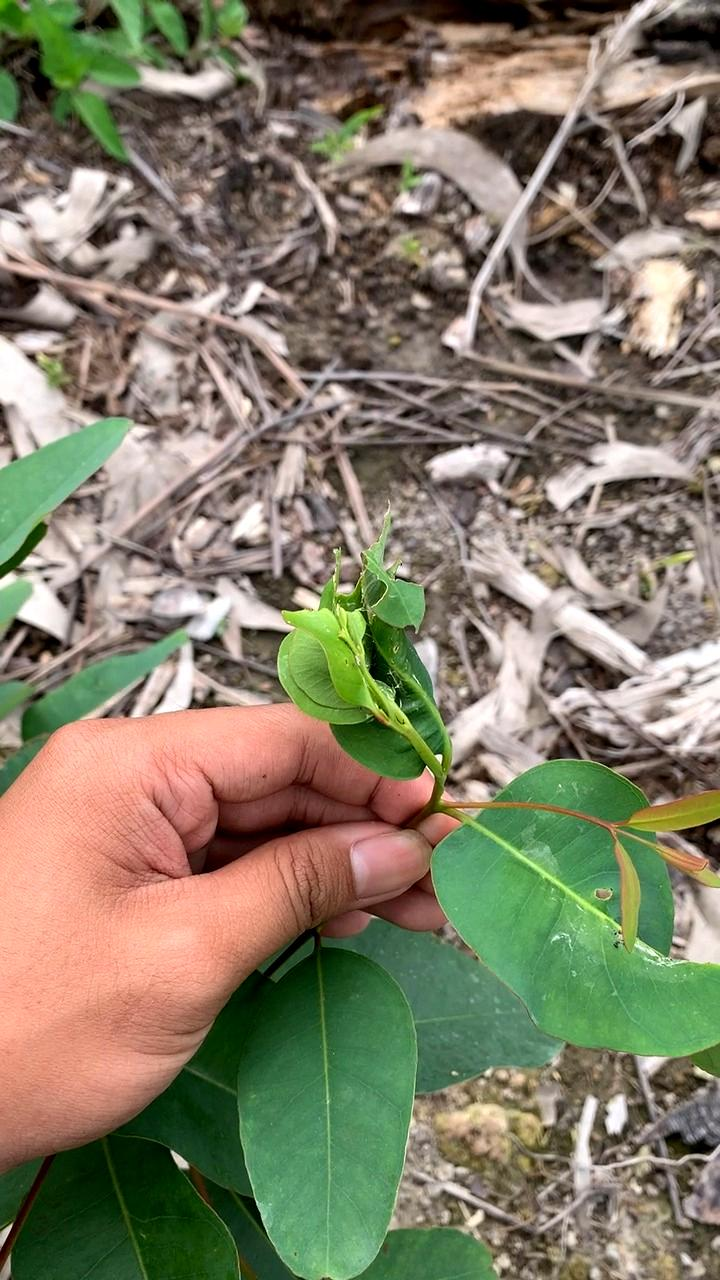Leaf Roller - Leaf: (273, 533, 453, 779)
